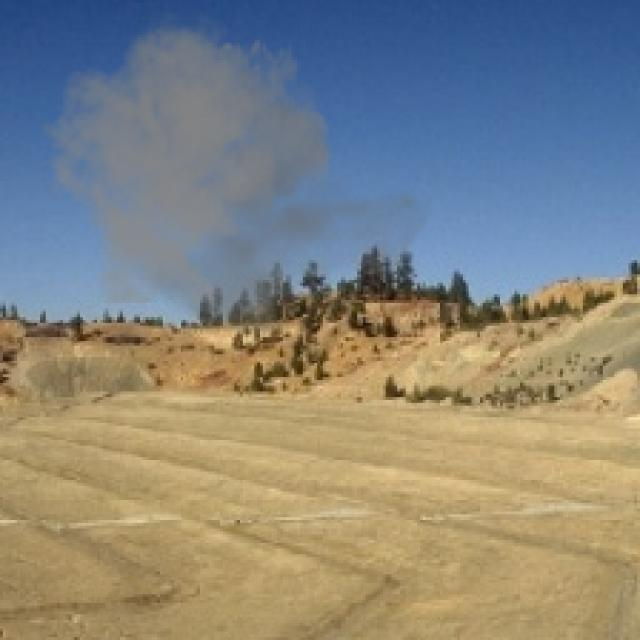smoke: (40, 3, 434, 346)
